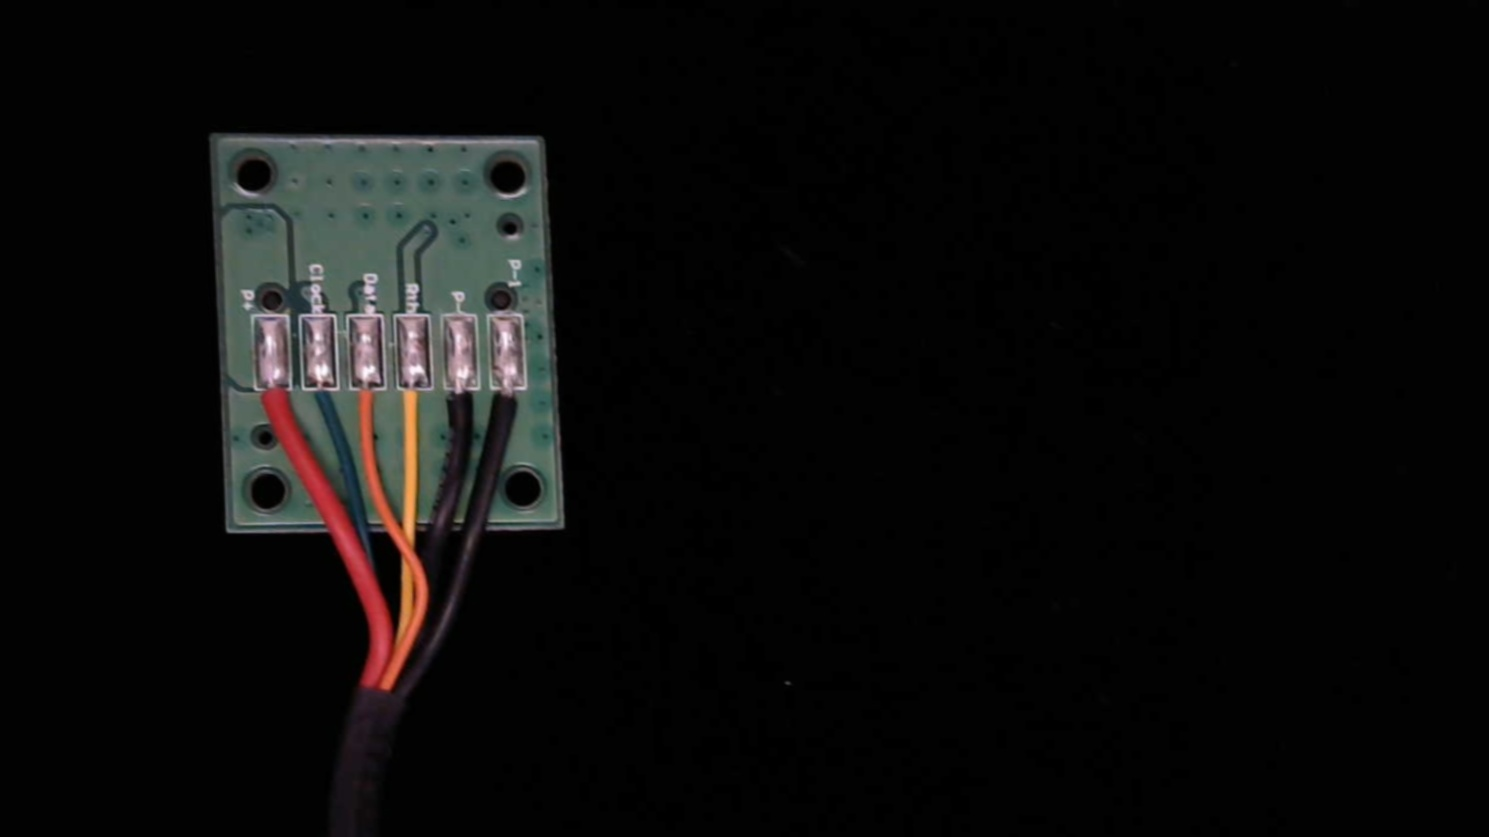Black: (440, 361, 485, 448)
Black1: (487, 362, 530, 442)
Green: (301, 360, 345, 444)
Orange: (348, 361, 389, 448)
Red: (250, 360, 296, 444)
Yellow: (393, 360, 437, 449)
